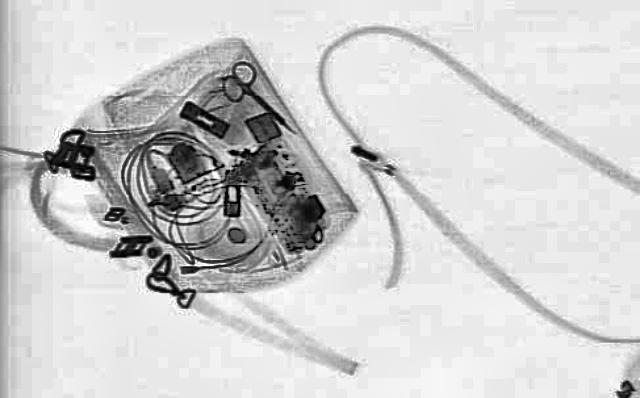Scissors: (198, 58, 314, 138)
